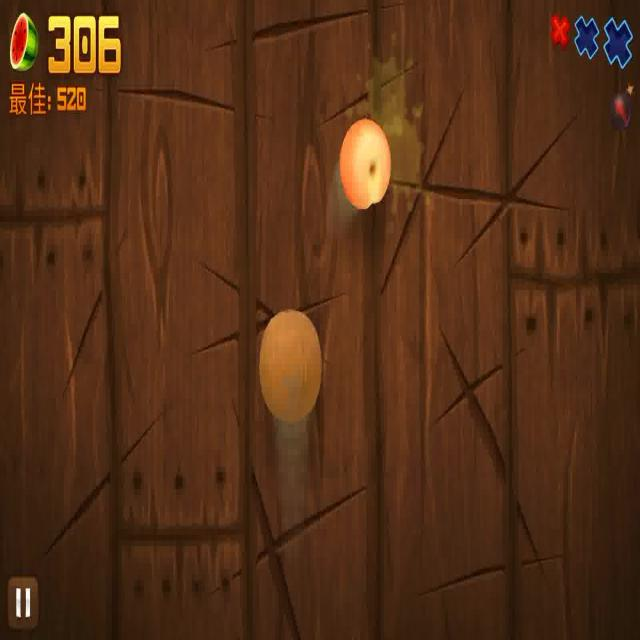fruit: (255, 302, 324, 422), (340, 112, 392, 217)
